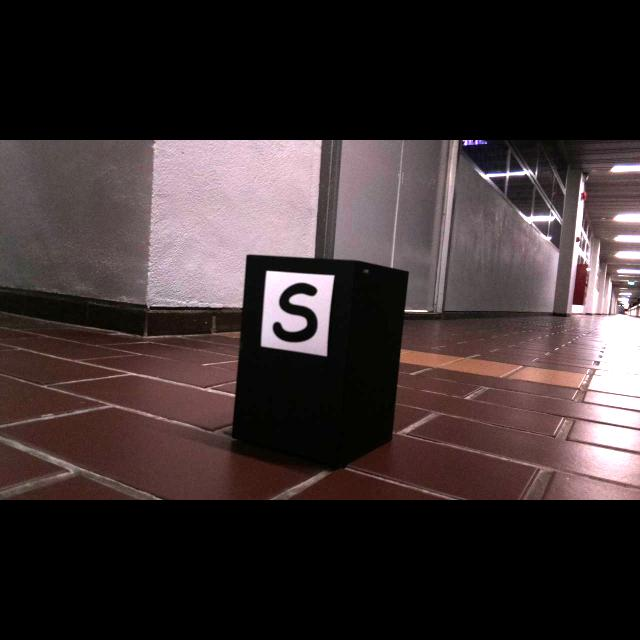S: (272, 282, 318, 343)
